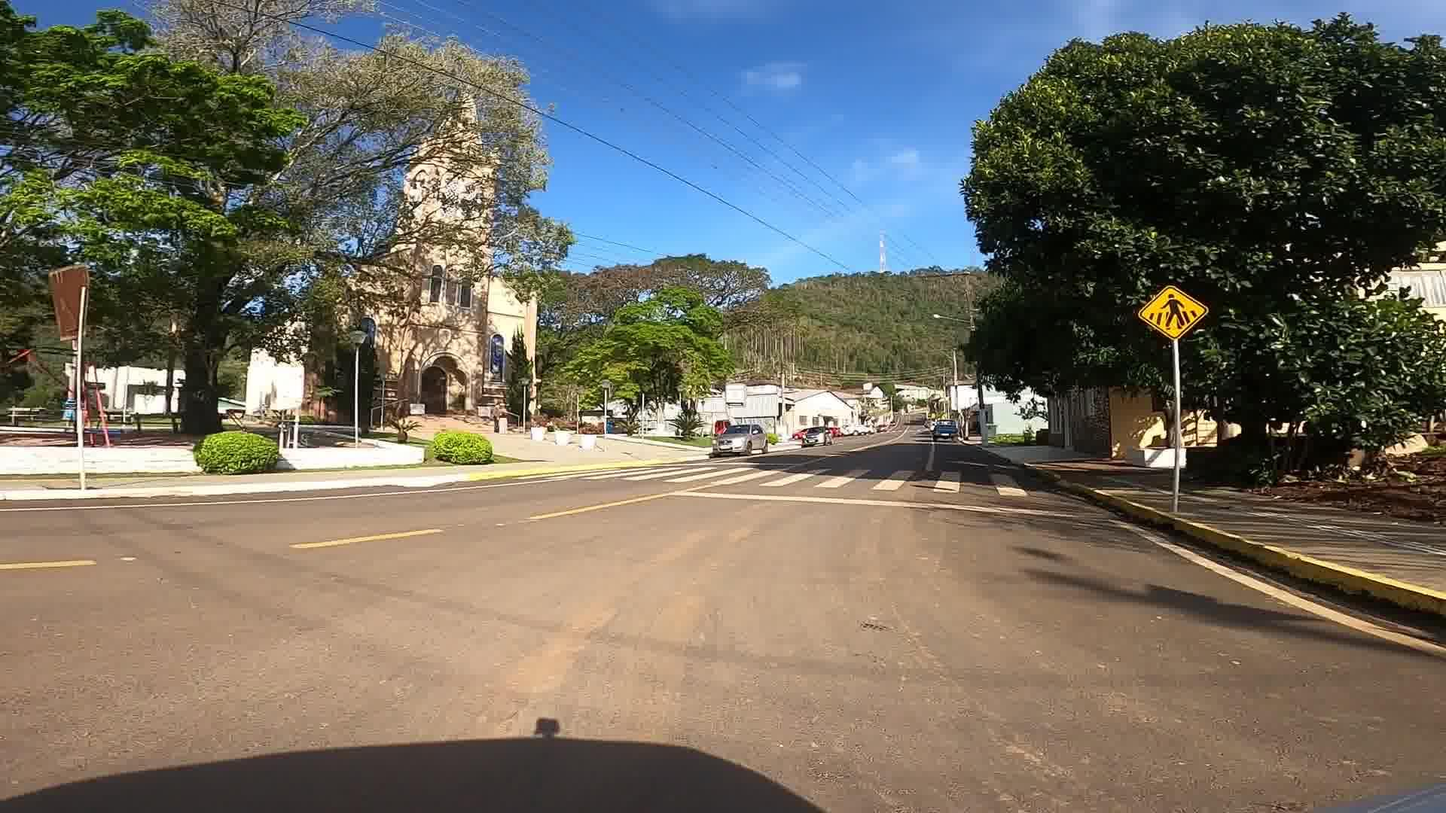A-32b: (1136, 281, 1208, 346)
